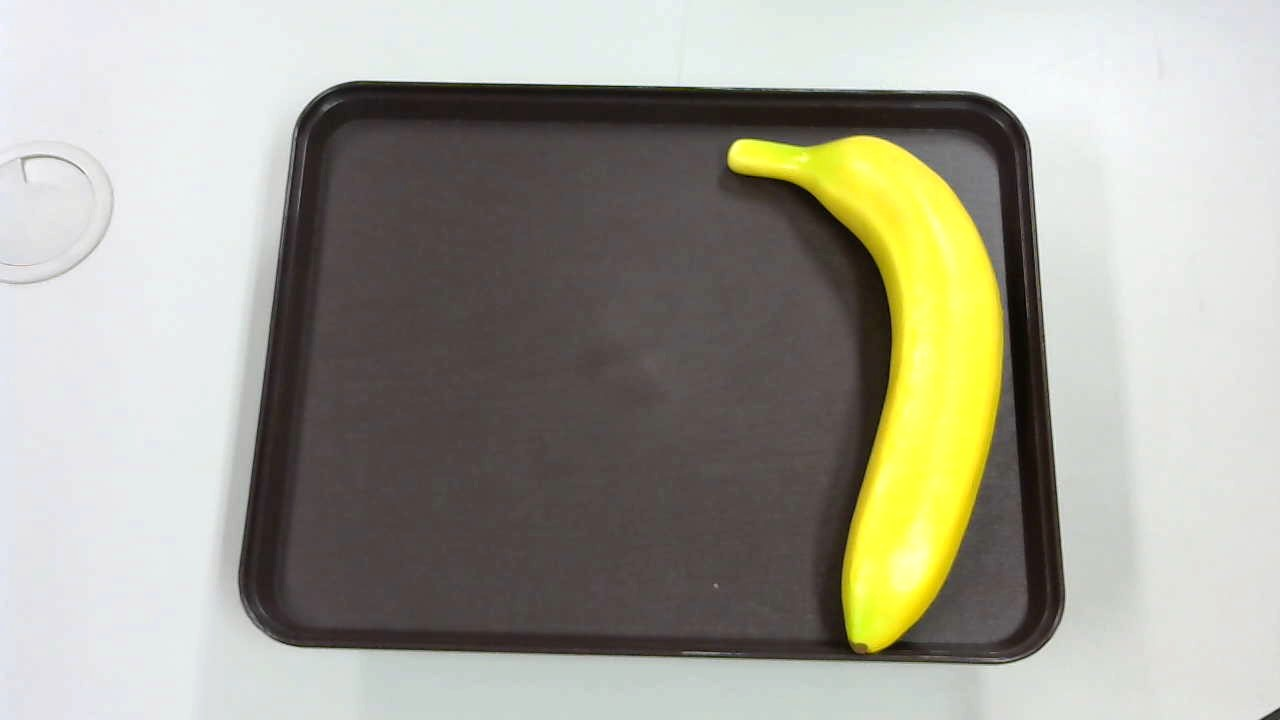banana: (715, 119, 1007, 652)
